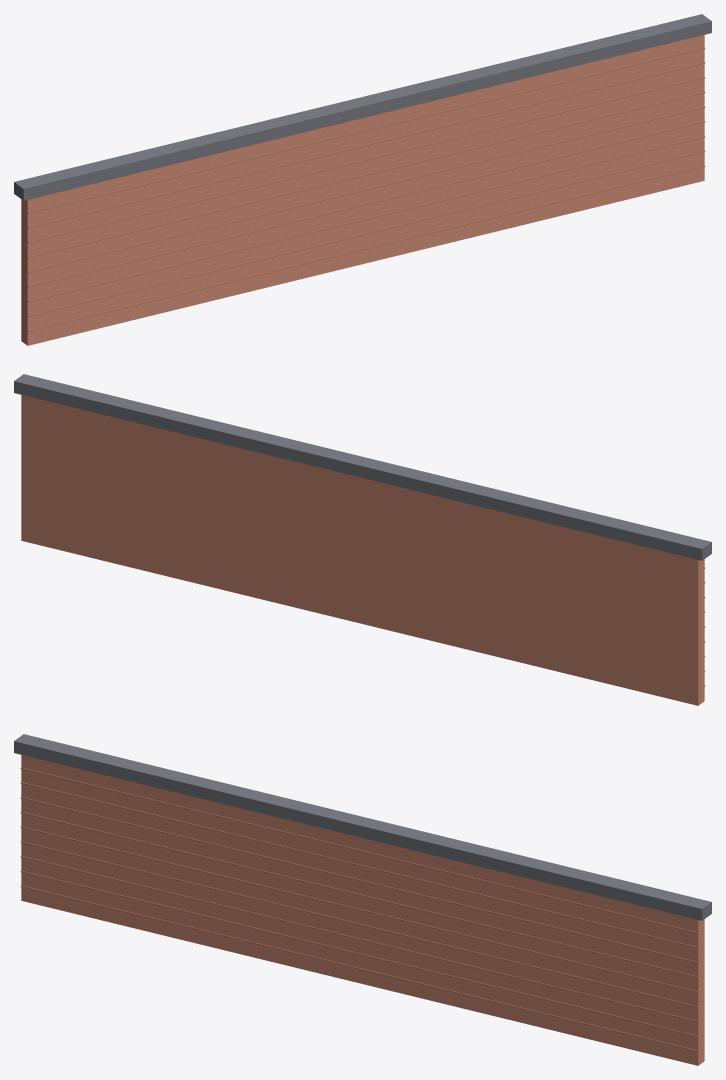
Rendered from harbour_warehouse.glb.
3 views of the same model, one above another, from view 1: azimuth 30°, elevation 25°; view 2: azimuth 150°, elevation 25°; view 3: azimuth 330°, elevation 25° (orthographic).
Visible parts, largest first — view 1: harbour_warehouse; view 2: harbour_warehouse; view 3: harbour_warehouse.
Part boxes in pixels (left/top/right/bottom): harbour_warehouse: left=14, top=14, right=711, bottom=345; harbour_warehouse: left=14, top=374, right=711, bottom=705; harbour_warehouse: left=14, top=734, right=711, bottom=1065.
Size of the model in its own units: 24.4 by 5.4 by 0.6.
